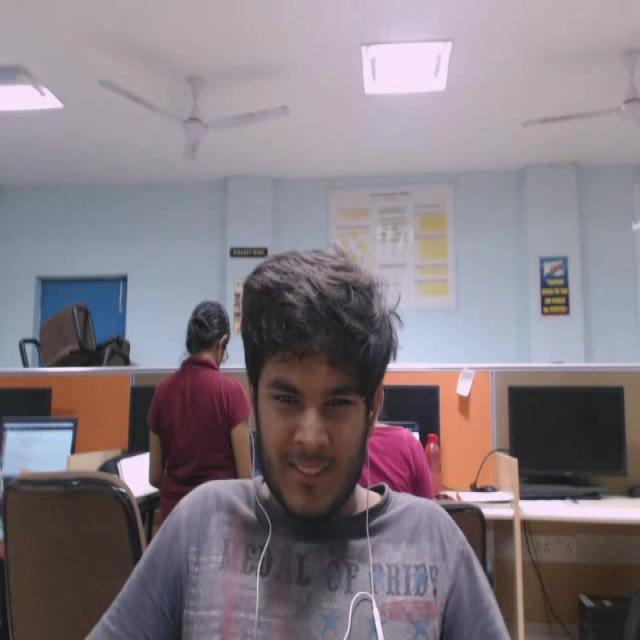Engaged: (214, 236, 424, 539)
